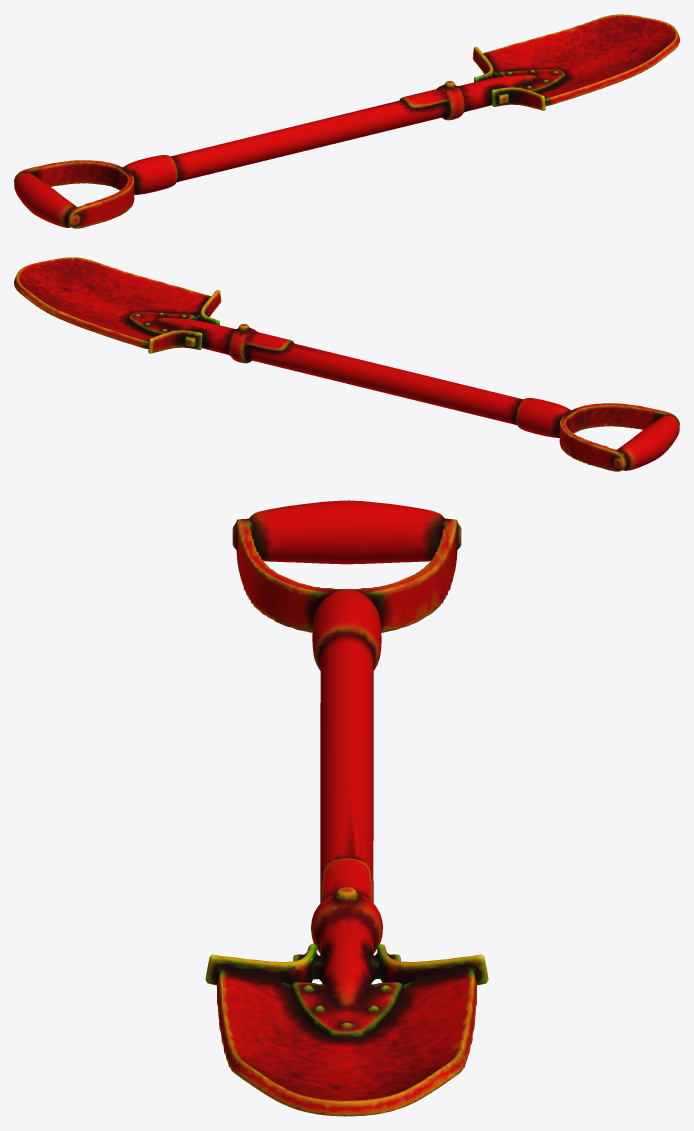
The model's file is ShovelHighHoudini.obj.
3 renders of one model, top to bottom at view 1: azimuth 30°, elevation 25°; view 2: azimuth 150°, elevation 25°; view 3: azimuth 270°, elevation 25°, orthographic. The views are drawn at different scales.
Size of the model in its own units: 152 by 9.05 by 28.88.
